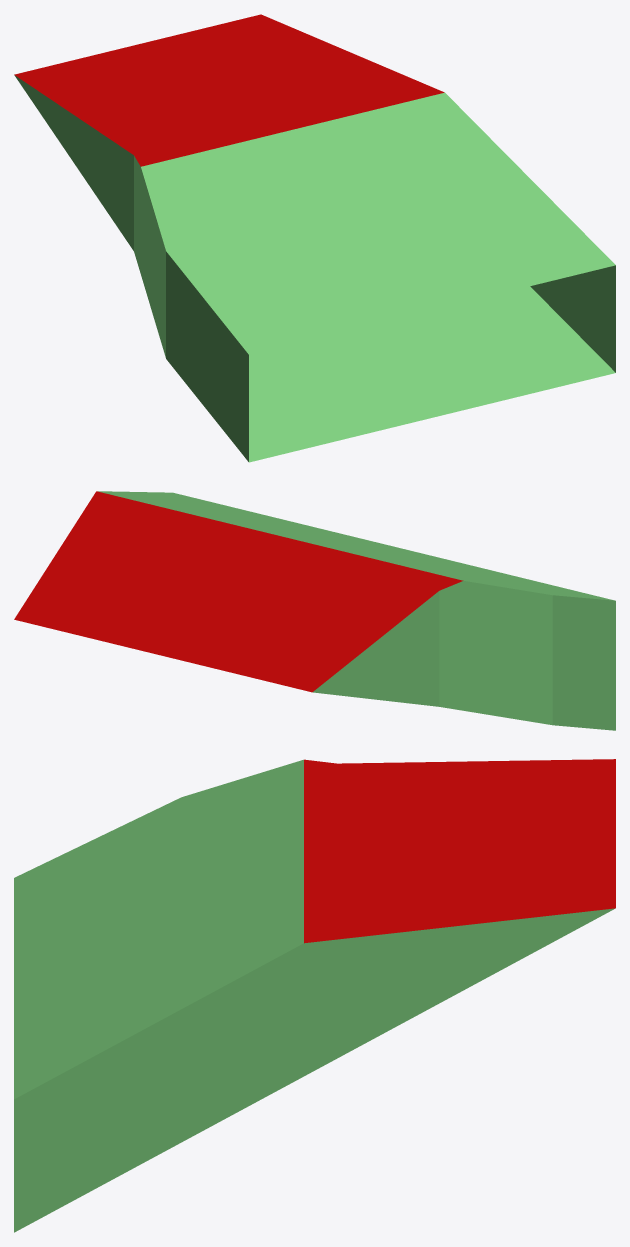
The model's file is x_lock_BIGMICRO_skala_part5_1_rmstrd.fbx.
3 views of the same model, one above another, from view 1: azimuth 30°, elevation 25°; view 2: azimuth 150°, elevation 25°; view 3: azimuth 270°, elevation 25° (orthographic). The views are drawn at different scales.
Visible parts, largest first — view 1: x_lock_BIGMICRO_skala_part5_1_rmstrd1; view 2: x_lock_BIGMICRO_skala_part5_1_rmstrd1; view 3: x_lock_BIGMICRO_skala_part5_1_rmstrd1.
Part boxes in pixels (x1,y1,x2,y2): x_lock_BIGMICRO_skala_part5_1_rmstrd1: [14, 14, 615, 462]; x_lock_BIGMICRO_skala_part5_1_rmstrd1: [14, 491, 615, 730]; x_lock_BIGMICRO_skala_part5_1_rmstrd1: [14, 759, 615, 1232].
Bounding box in the file's own units: 4 × 2.08 × 4.41.
